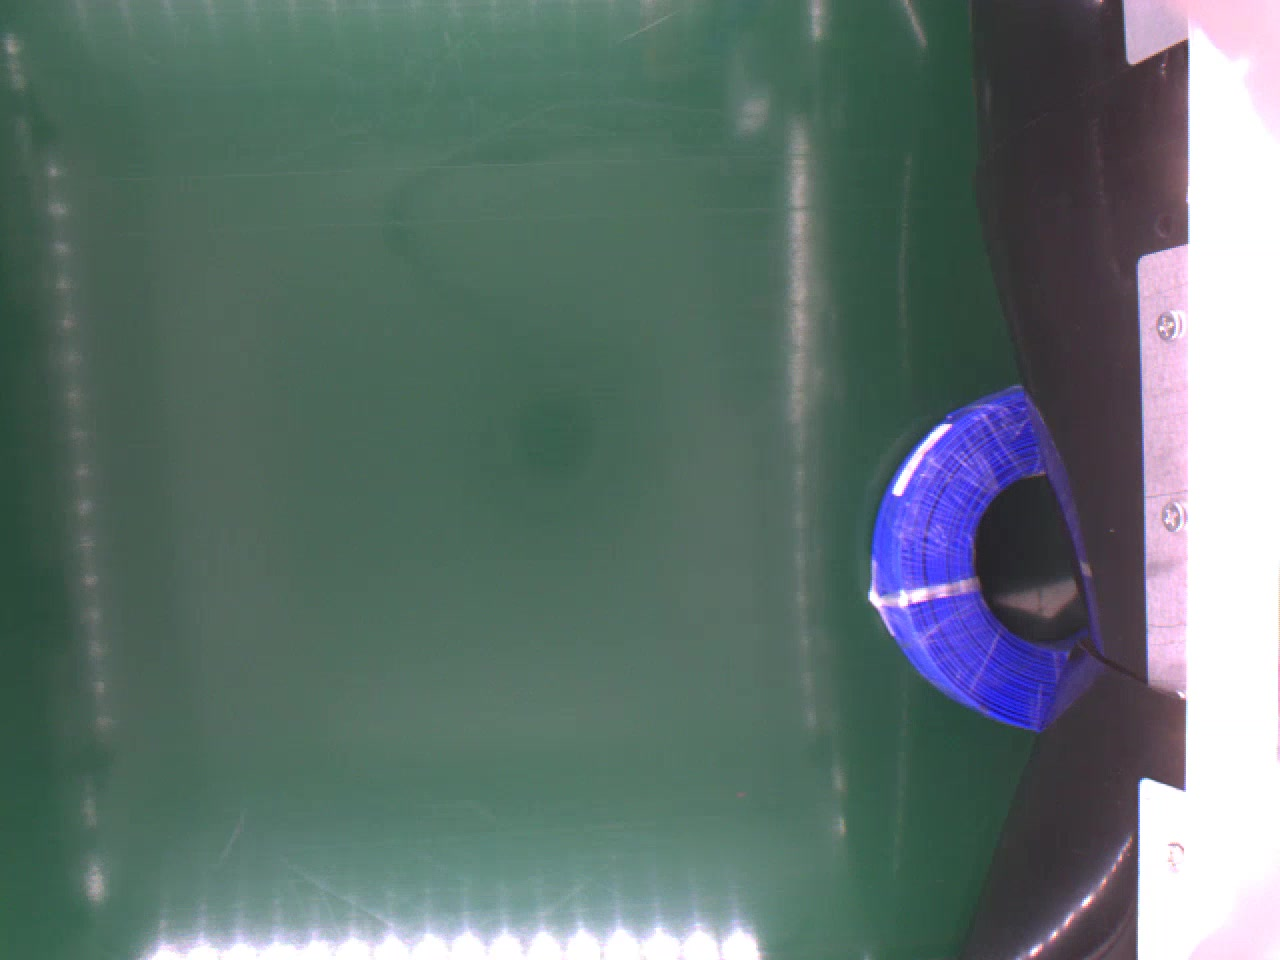blue: (867, 380, 1085, 727)
